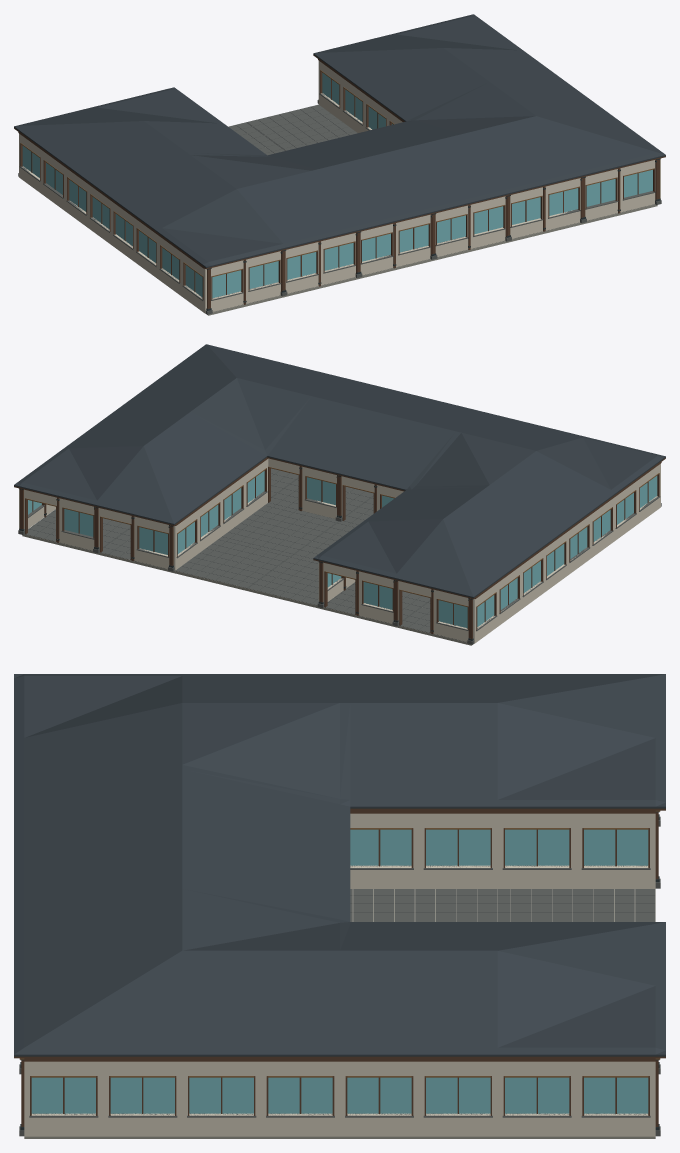
The model's file is visual-far.glb.
3 renders of one model, top to bottom at view 1: azimuth 30°, elevation 25°; view 2: azimuth 150°, elevation 25°; view 3: azimuth 270°, elevation 25°, orthographic. The views are drawn at different scales.
Visible parts, largest first — view 1: 农舍连续U形坡屋面, 参数墙 · 独立窗玻璃 (×12), 石铺面与混凝土楼板 (×2); view 2: 农舍连续U形坡屋面, 石铺面与混凝土楼板 (×11), 参数墙 · 独立窗玻璃 (×8), 参数墙 · 通行门洞 (×6); view 3: 农舍连续U形坡屋面, 参数墙 · 独立窗玻璃 (×6), 石铺面与混凝土楼板 (×2).
Boxes of the visible parts, x1=… form: 农舍连续U形坡屋面: x1=14, y1=14, x2=665, y2=269; 参数墙 · 独立窗玻璃 (×12): x1=18, y1=59, x2=656, y2=313; 石铺面与混凝土楼板 (×2): x1=228, y1=104, x2=357, y2=155; 农舍连续U形坡屋面: x1=14, y1=344, x2=665, y2=599; 石铺面与混凝土楼板 (×11): x1=22, y1=468, x2=472, y2=645; 参数墙 · 独立窗玻璃 (×8): x1=19, y1=458, x2=661, y2=643; 参数墙 · 通行门洞 (×6): x1=24, y1=458, x2=468, y2=641; 农舍连续U形坡屋面: x1=14, y1=674, x2=665, y2=1058; 参数墙 · 独立窗玻璃 (×6): x1=24, y1=810, x2=655, y2=1136; 石铺面与混凝土楼板 (×2): x1=350, y1=889, x2=655, y2=921.
Size of the model in its own units: 34.8 by 5.38 by 25.2.
15 materials, 15 textured.
